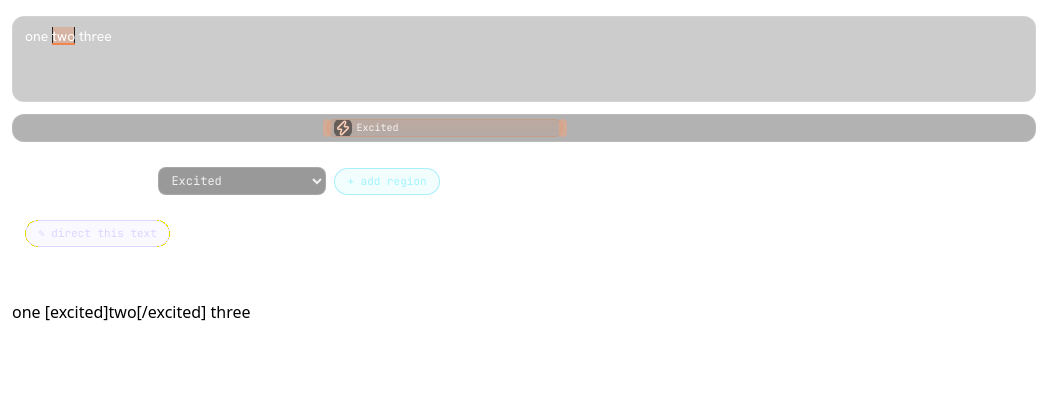
Test: ScoreEditor — the tagged string, seen and edited › moves an edge from the numeric field — the path that needs no pointer at all
Click the button with aria-label "Region 1 of 1".
click(445, 128)  # box left=328, top=119, right=563, bottom=137
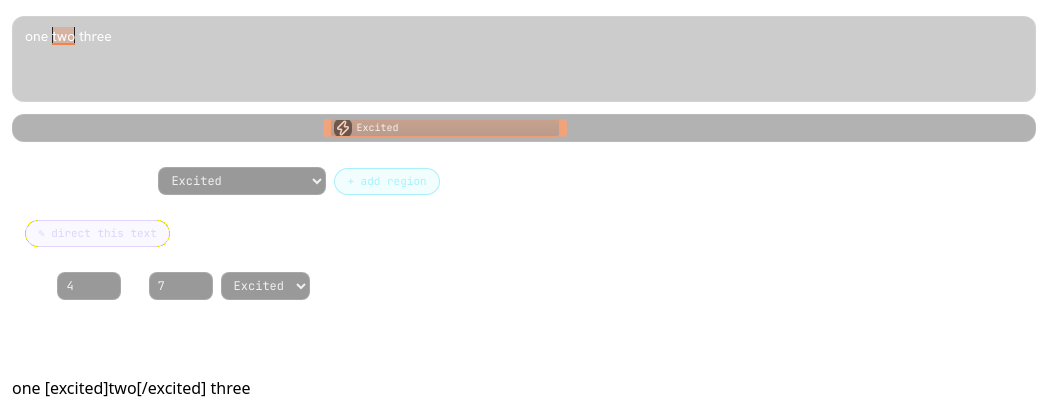
Replace the text in the number field named "Region end, character offset" with "9" at [181, 286], box left=149, top=272, right=213, bottom=300
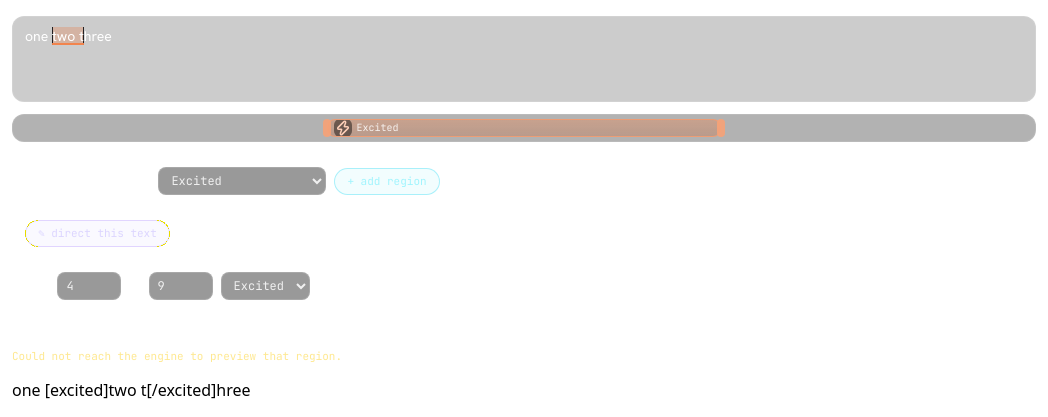
Now the text with test id "wire" reads "one [excited]two t[/excited]hree", box left=12, top=379, right=250, bottom=401
